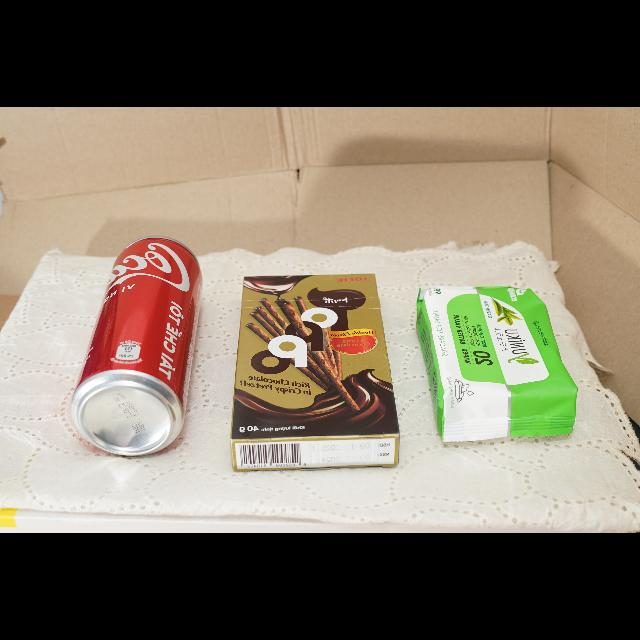banh_toppo_socola: (231, 274, 400, 472)
coca_cola: (71, 237, 201, 456)
khan_giay: (417, 287, 577, 442)
